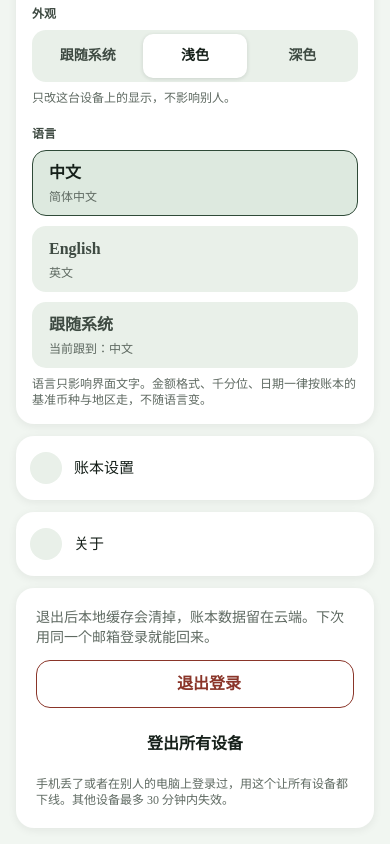
Test: a failed 登出所有设备 says so, stays on the page and can be tried again
Later steps or results of the test are not shown.
(page scrolled)
Click the button with test id "settings-logout-all".
click(195, 744)  # box x1=36 y1=720 x2=354 y2=768
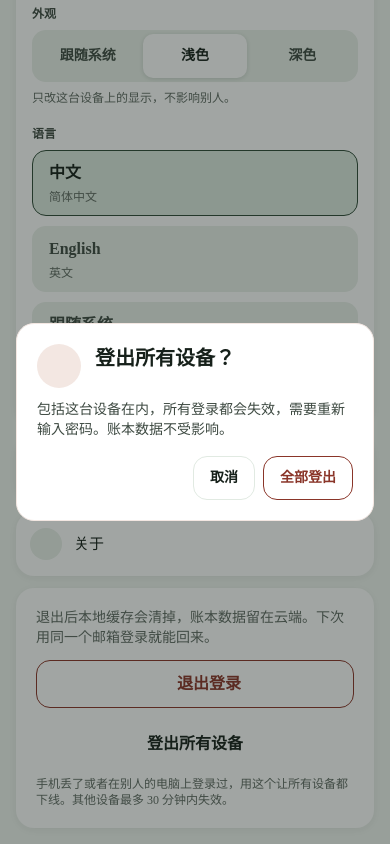
Click the button with test id "confirm-accept".
click(308, 478)  # box x1=263 y1=456 x2=353 y2=500
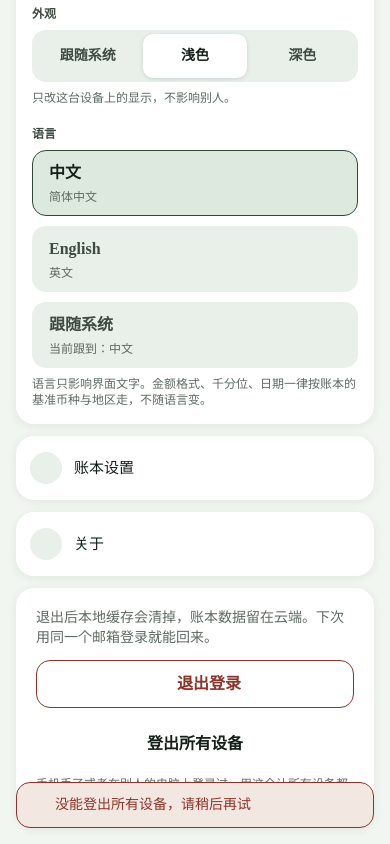
Check: the button with test id "settings-logout-all" is enabled, box x1=36 y1=720 x2=354 y2=768
Check: the element with test id "toast-error" reads "没能登出所有设备，请稍后再试", box x1=55 y1=797 x2=251 y2=812
